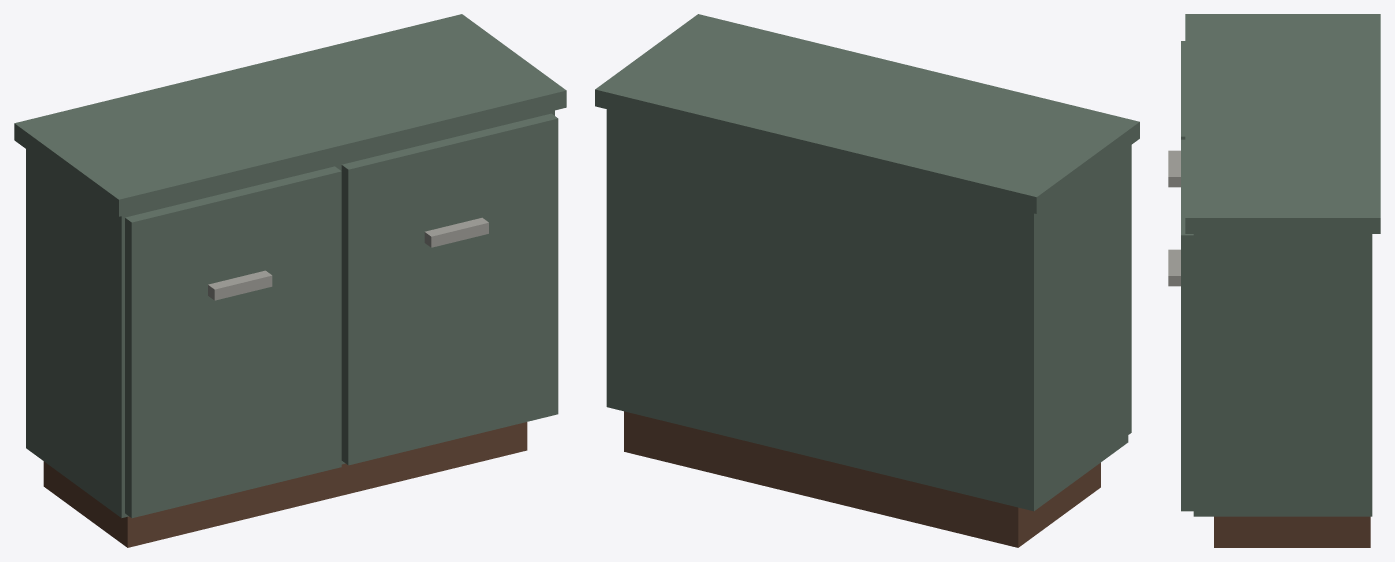
File: wall_cabinet.glb
The picture shows the model from 3 angles, left to right: view 1: azimuth 30°, elevation 25°; view 2: azimuth 150°, elevation 25°; view 3: azimuth 270°, elevation 25°; orthographic projection. The views are drawn at different scales.
Visible parts, largest first — view 1: Door.003, Door.002, Top.001, Case.001, Plinth.001, Pull.002, Pull.003; view 2: Case.001, Top.001, Plinth.001, Door.002; view 3: Case.001, Top.001, Plinth.001, Door.003, Door.002, Pull.002, Pull.003.
Part boxes in pixels (box(x1,y1,x2,y2)): Door.003: box(341, 113, 558, 465); Door.002: box(125, 166, 341, 518); Top.001: box(14, 14, 566, 216); Case.001: box(26, 110, 554, 517); Plinth.001: box(43, 422, 527, 547); Pull.002: box(208, 270, 272, 300); Pull.003: box(424, 217, 488, 247); Case.001: box(606, 109, 1128, 511); Top.001: box(595, 14, 1139, 213); Plinth.001: box(624, 411, 1100, 547); Door.002: box(1128, 145, 1131, 434); Case.001: box(1193, 234, 1372, 516); Top.001: box(1185, 14, 1380, 233); Plinth.001: box(1214, 516, 1370, 547); Door.003: box(1181, 139, 1193, 511); Door.002: box(1181, 41, 1185, 139); Pull.002: box(1168, 150, 1180, 187); Pull.003: box(1168, 249, 1180, 286).
Bounding box in the file's own units: 0.93 × 0.725 × 0.409.
